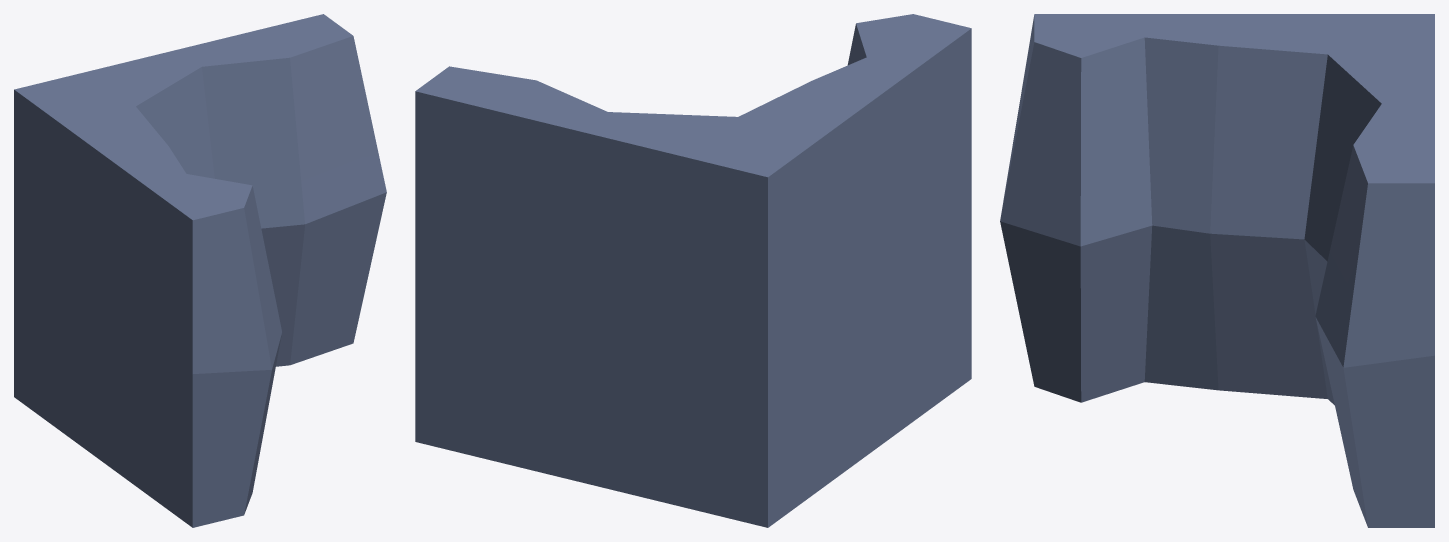
The model's file is floor-041.glb.
3 views of the same model, side by side, from view 1: azimuth 30°, elevation 25°; view 2: azimuth 150°, elevation 25°; view 3: azimuth 270°, elevation 25° (orthographic). The views are drawn at different scales.
Parts seen in each view (by area): view 1: floor.041; view 2: floor.041; view 3: floor.041.
Boxes of the visible parts, bbox=[...] form: floor.041: bbox=[14, 14, 386, 527]; floor.041: bbox=[415, 14, 971, 527]; floor.041: bbox=[1000, 14, 1434, 527].
Size of the model in its own units: 1.98 by 1.75 by 2.
